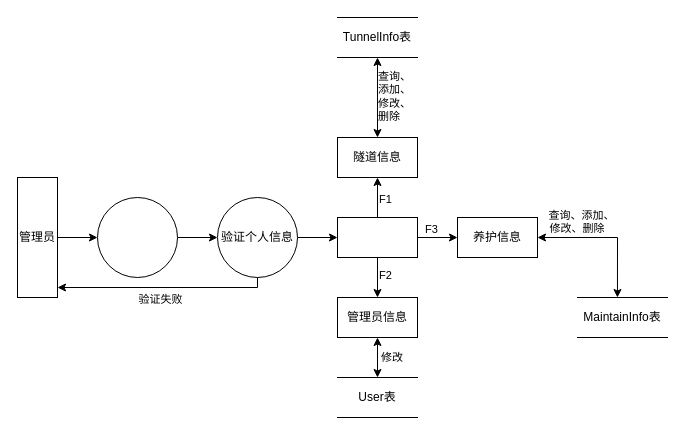
The diagram is 685 pixels wide and 435 high, and some of its shapes have lost their labels. Each missing label, with the centre of its shape:
"主界面" goes at (x=377, y=237).
"输入用户名、 密码" goes at (x=137, y=237).
